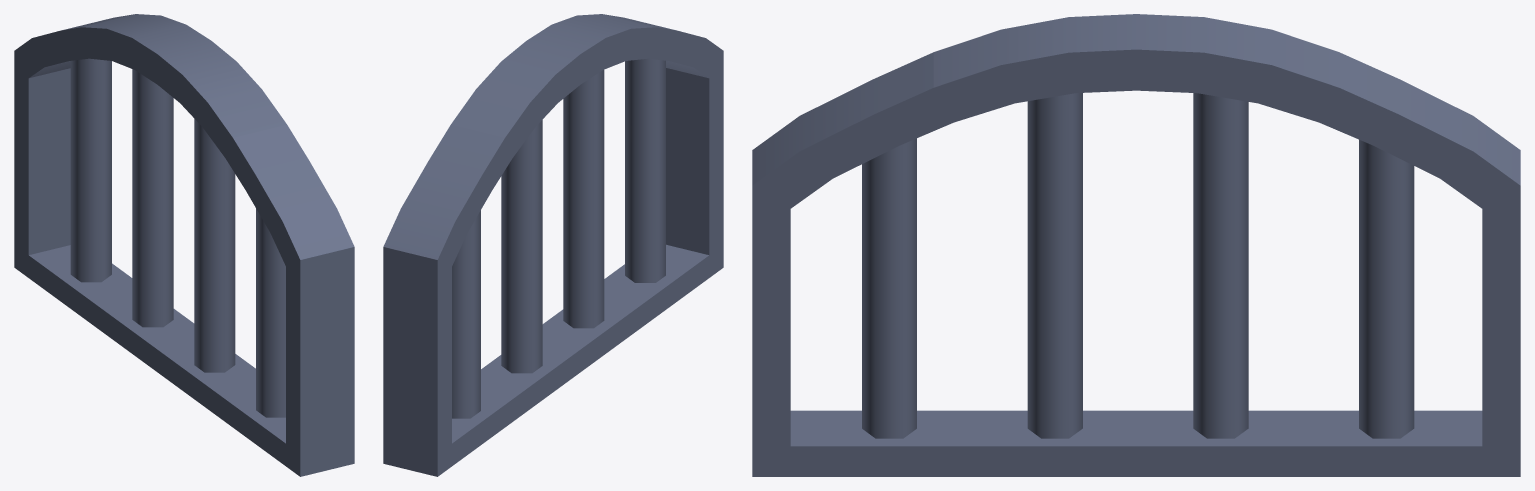
Rendered from Gate.glb.
3 renders of one model, left to right at view 1: azimuth 30°, elevation 25°; view 2: azimuth 150°, elevation 25°; view 3: azimuth 270°, elevation 25°, orthographic. The views are drawn at different scales.
Parts seen in each view (by area): view 1: fenece_gate; view 2: fenece_gate; view 3: fenece_gate.
Part boxes in pixels (x1,y1,x2,y2): fenece_gate: [14, 14, 354, 476]; fenece_gate: [383, 14, 723, 476]; fenece_gate: [752, 14, 1520, 476].
Size of the model in its own units: 0.5123 by 2.87 by 4.68.
